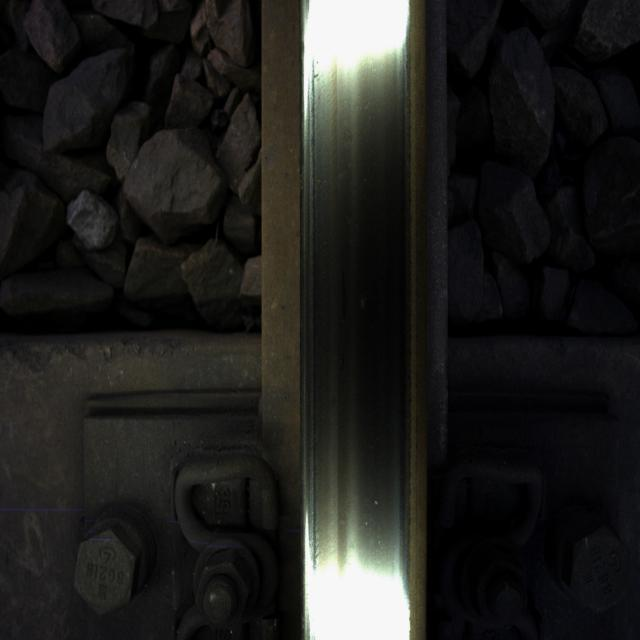break: (302, 41, 408, 621)
